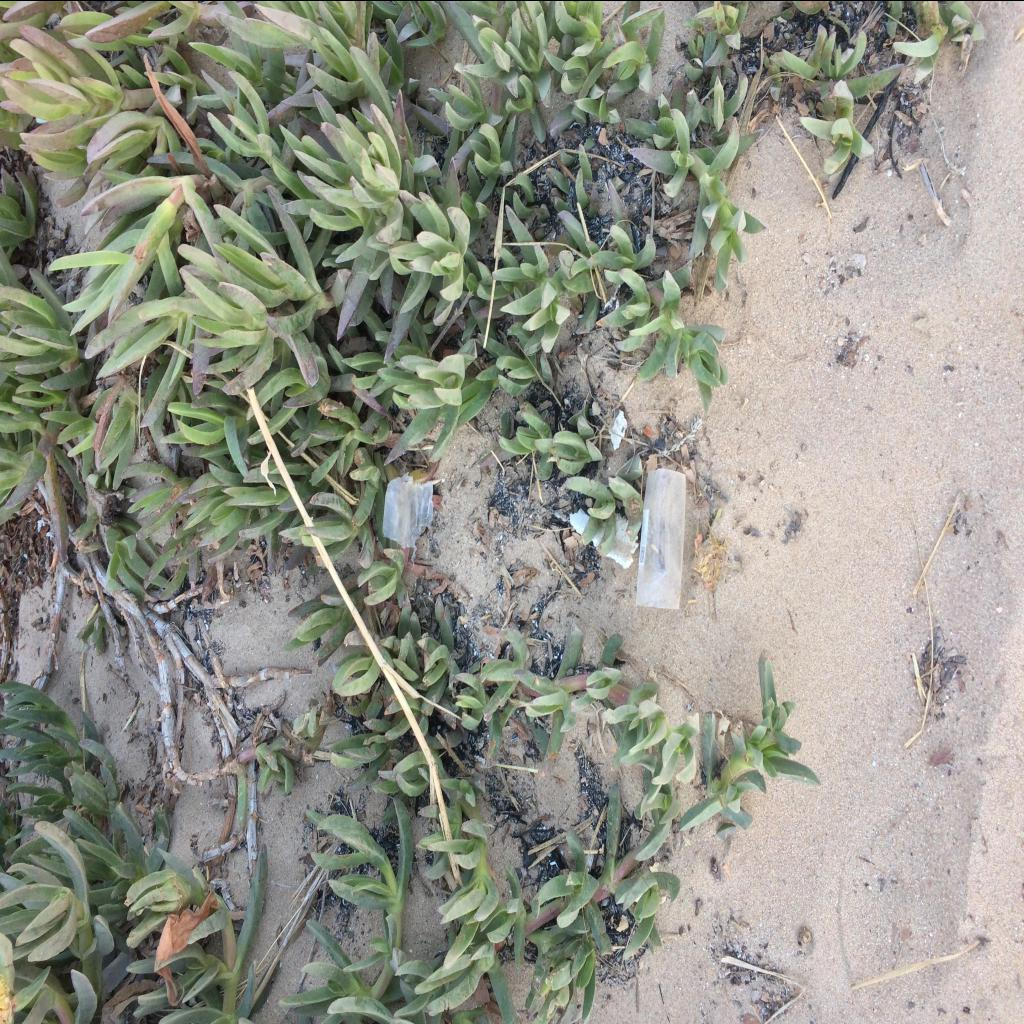Plastic film: (636, 468, 686, 608), (383, 472, 439, 562)
Styrofoam piece: (570, 508, 638, 568), (610, 410, 628, 450)
